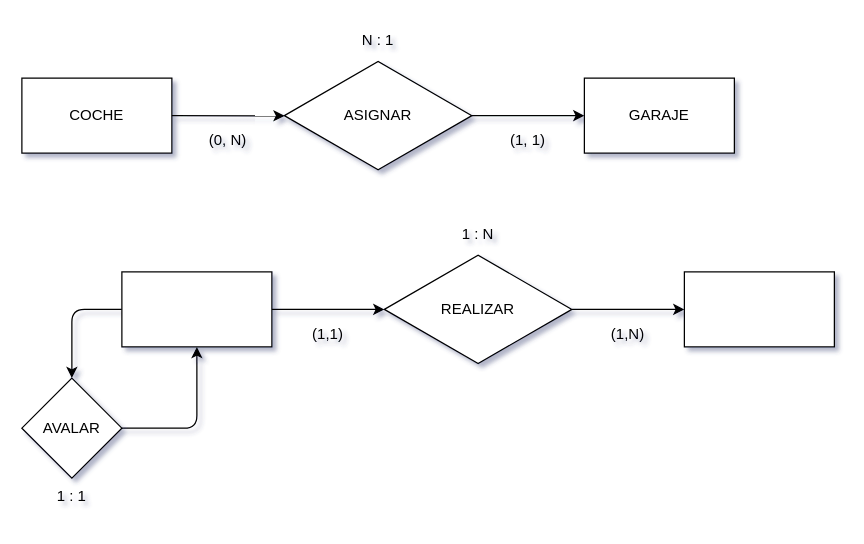
Some shapes in this 864 by 544 pixel diagram are drawn without their labels. The box of each missing label's shape, as (x1, y1, x2, y2) in pixels:
CLIENTE: (121, 271, 272, 347)
RESERVA: (683, 271, 834, 347)
